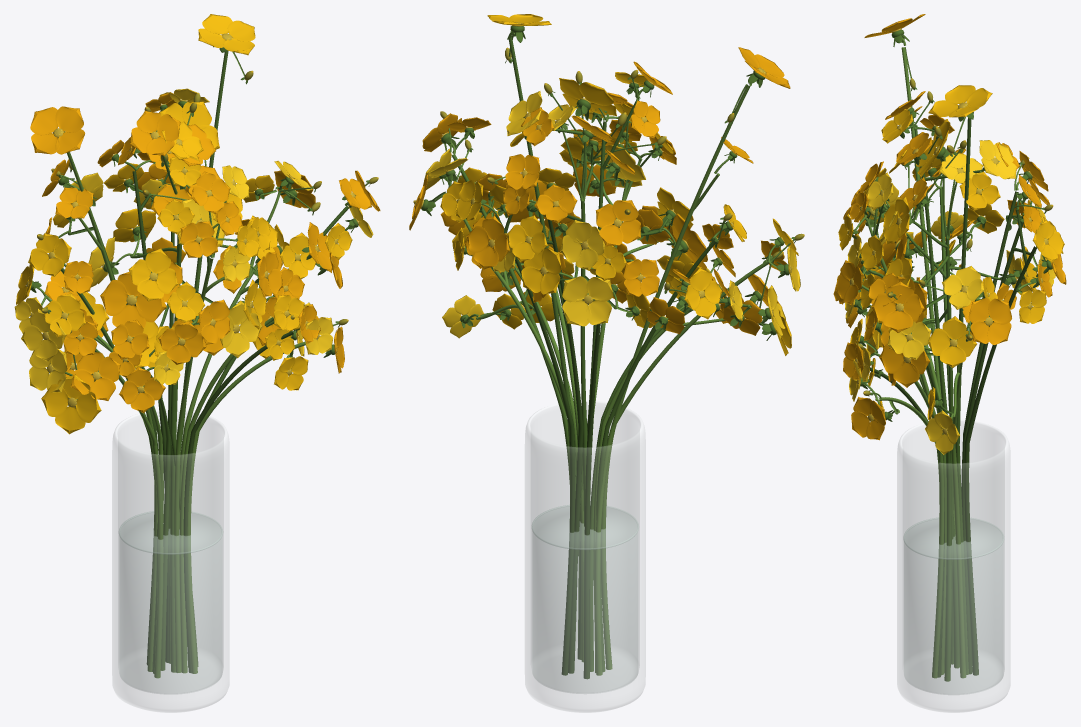
File: rapeseed_vase_high.glb
3 views of the same model, side by side, from view 1: azimuth 30°, elevation 25°; view 2: azimuth 150°, elevation 25°; view 3: azimuth 270°, elevation 25° (orthographic). The views are drawn at different scales.
Parts seen in each view (by area): view 1: Vase_Glass, Water_Volume, Water_Surface, Flower_E_tall_left_02_01, Flower_A_core_03_01, Flower_B_left_low_01_01, Stem_E_tall_left_trunk, Stem_N_center_fill_trunk, Stem_P_right_fill_trunk, Stem_M_low_back_right_trunk, Flower_A_core_03_02, Flower_F_tall_right_01_01 (+52 smaller); view 2: Vase_Glass, Water_Volume, Water_Surface, Stem_E_tall_left_trunk, Stem_I_back_trunk, Stem_G_far_left_trunk, Flower_A_core_04_01, Stem_Q_back_fill_trunk, Stem_J_left_back_trunk, Flower_J_left_back_02_01, Flower_J_left_back_02_02, Flower_I_back_03_02 (+36 smaller); view 3: Vase_Glass, Water_Volume, Water_Surface, Stem_I_back_trunk, Stem_F_tall_right_trunk, Flower_H_far_right_02_01, Flower_C_right_mid_03_01, Stem_C_right_mid_trunk, Stem_K_low_right_trunk, Stem_D_upper_mid_trunk, Stem_Q_back_fill_trunk, Flower_C_right_mid_05_01 (+39 smaller).
Boxes of the visible parts, x1,y1,x2,y2 form: Vase_Glass: (112, 409, 229, 712); Water_Volume: (120, 538, 221, 693); Water_Surface: (120, 511, 221, 552); Flower_E_tall_left_02_01: (30, 106, 85, 154); Flower_A_core_03_01: (100, 271, 166, 327); Flower_B_left_low_01_01: (41, 374, 101, 434); Stem_E_tall_left_trunk: (67, 152, 163, 678); Stem_N_center_fill_trunk: (174, 258, 213, 672); Stem_P_right_fill_trunk: (179, 317, 273, 673); Stem_M_low_back_right_trunk: (183, 331, 293, 673); Flower_A_core_03_02: (128, 248, 178, 301); Flower_F_tall_right_01_01: (198, 14, 255, 55); Vase_Glass: (525, 400, 645, 712); Water_Volume: (533, 532, 637, 693); Water_Surface: (532, 505, 637, 548); Stem_E_tall_left_trunk: (601, 84, 750, 669); Stem_I_back_trunk: (495, 214, 575, 675); Stem_G_far_left_trunk: (594, 261, 769, 675); Flower_A_core_04_01: (562, 276, 613, 326); Stem_Q_back_fill_trunk: (547, 219, 583, 673); Stem_J_left_back_trunk: (583, 263, 605, 679); Flower_J_left_back_02_01: (595, 200, 640, 246); Flower_J_left_back_02_02: (560, 219, 604, 270); Flower_I_back_03_02: (466, 215, 509, 269); Vase_Glass: (897, 419, 1010, 712); Water_Volume: (904, 543, 1002, 694); Water_Surface: (904, 518, 1003, 558); Stem_I_back_trunk: (964, 246, 1036, 675); Stem_F_tall_right_trunk: (955, 118, 971, 674); Flower_H_far_right_02_01: (871, 281, 924, 332); Flower_C_right_mid_03_01: (968, 298, 1011, 344); Stem_C_right_mid_trunk: (951, 362, 966, 678); Stem_K_low_right_trunk: (878, 397, 944, 678); Stem_D_upper_mid_trunk: (920, 167, 951, 681); Stem_Q_back_fill_trunk: (961, 215, 1023, 674); Flower_C_right_mid_05_01: (928, 316, 976, 367).
Bounding box in the file's own units: 0.2514 × 0.4389 × 0.1474.
